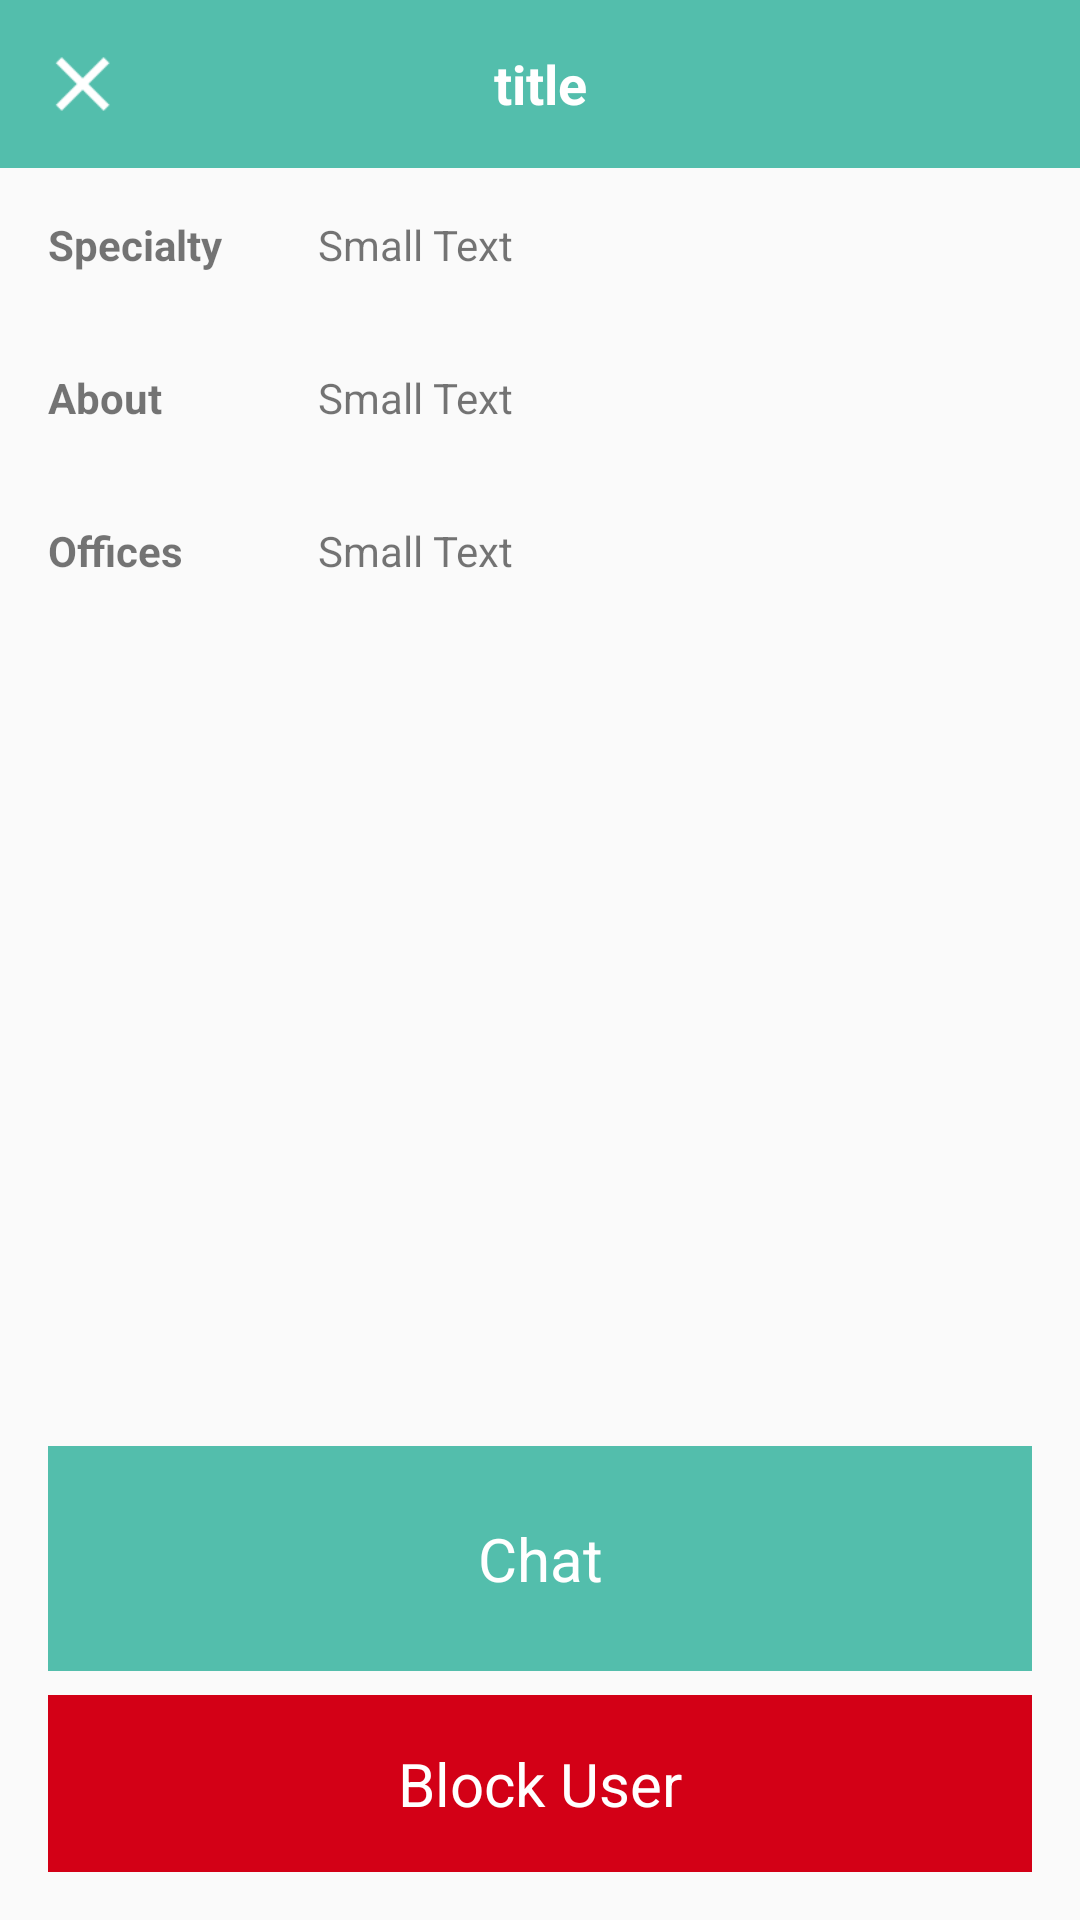

Icon bounding boxes for this 1080 × 1920 phone screenshot, format (x1, y1, x2, y2):
close: (56, 57, 110, 111)
